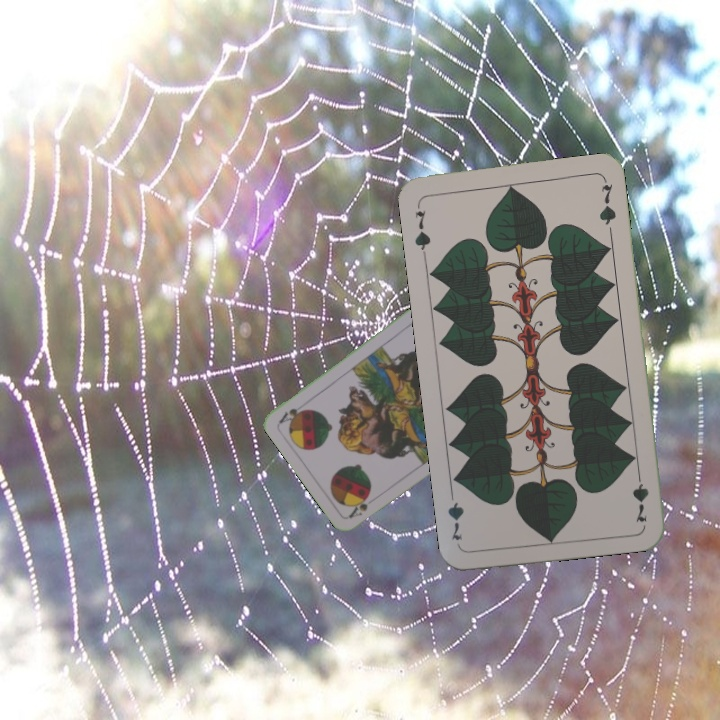G7: (628, 466, 652, 525), (410, 199, 433, 258)
SA: (345, 490, 380, 521)
